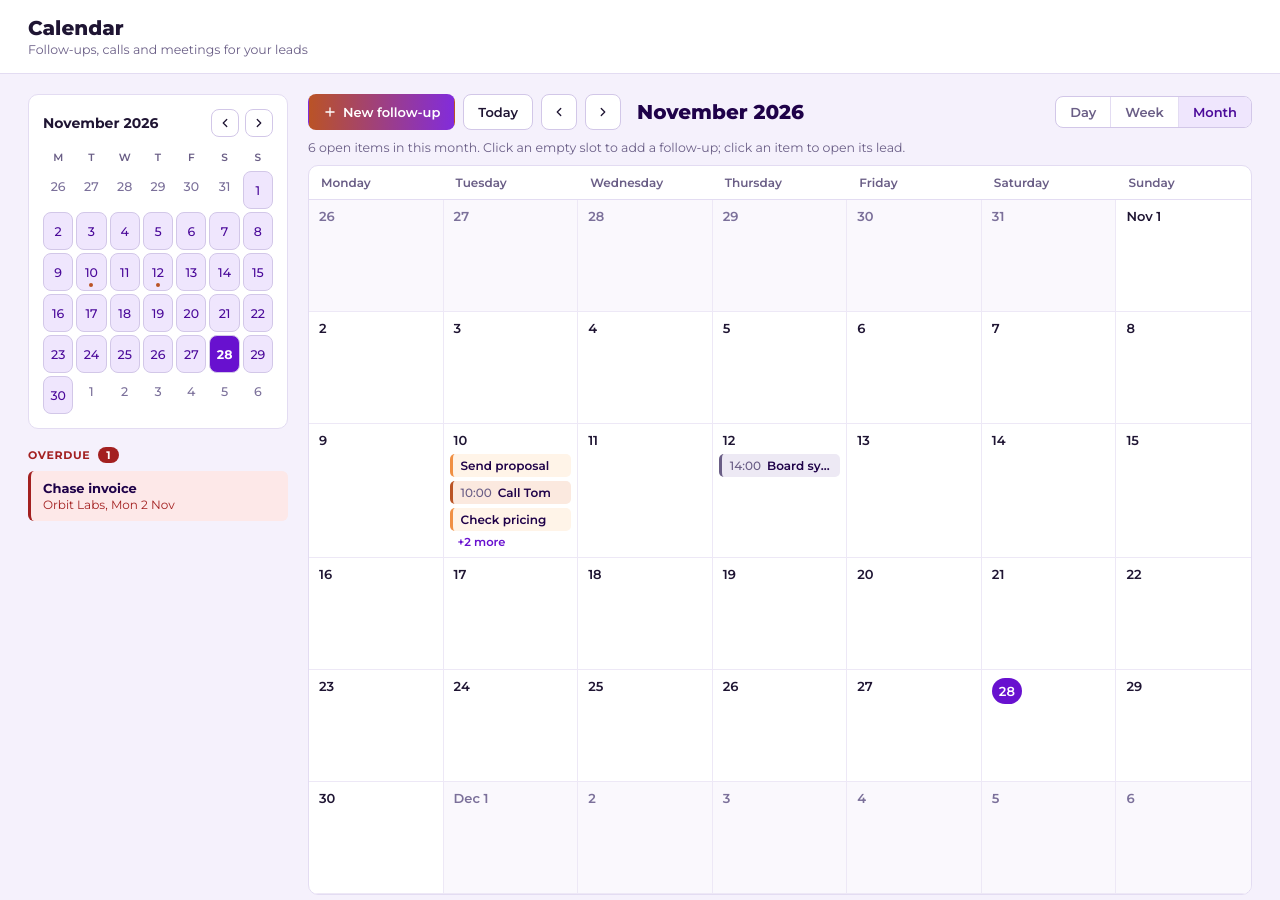
Test: Calendar page › an event without a lead opens its details
This screenshot has width=1280, height=900.
Click the button "14:00 Board sync": (780, 466) [719,454,840,477]
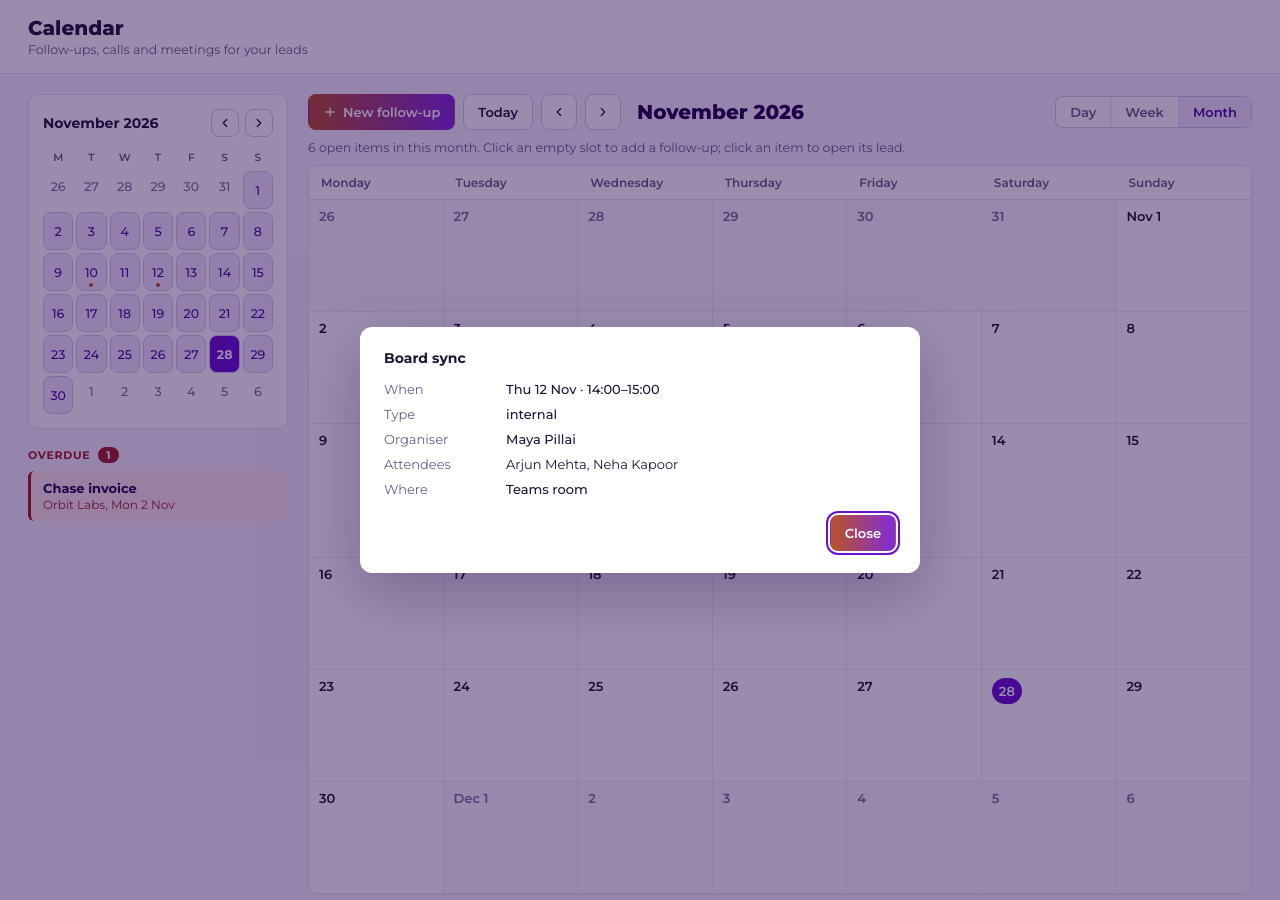
Now the text "Thu 12 Nov · 14:00–15:00" is shown, box [506,381,660,397]
Now the text "Maya Pillai" is shown, box [506,431,576,447]
Now the text "Arjun Mehta, Neha Kapoor" is shown, box [506,456,678,472]
Click the button "Close": (863, 533) [830,515,896,551]
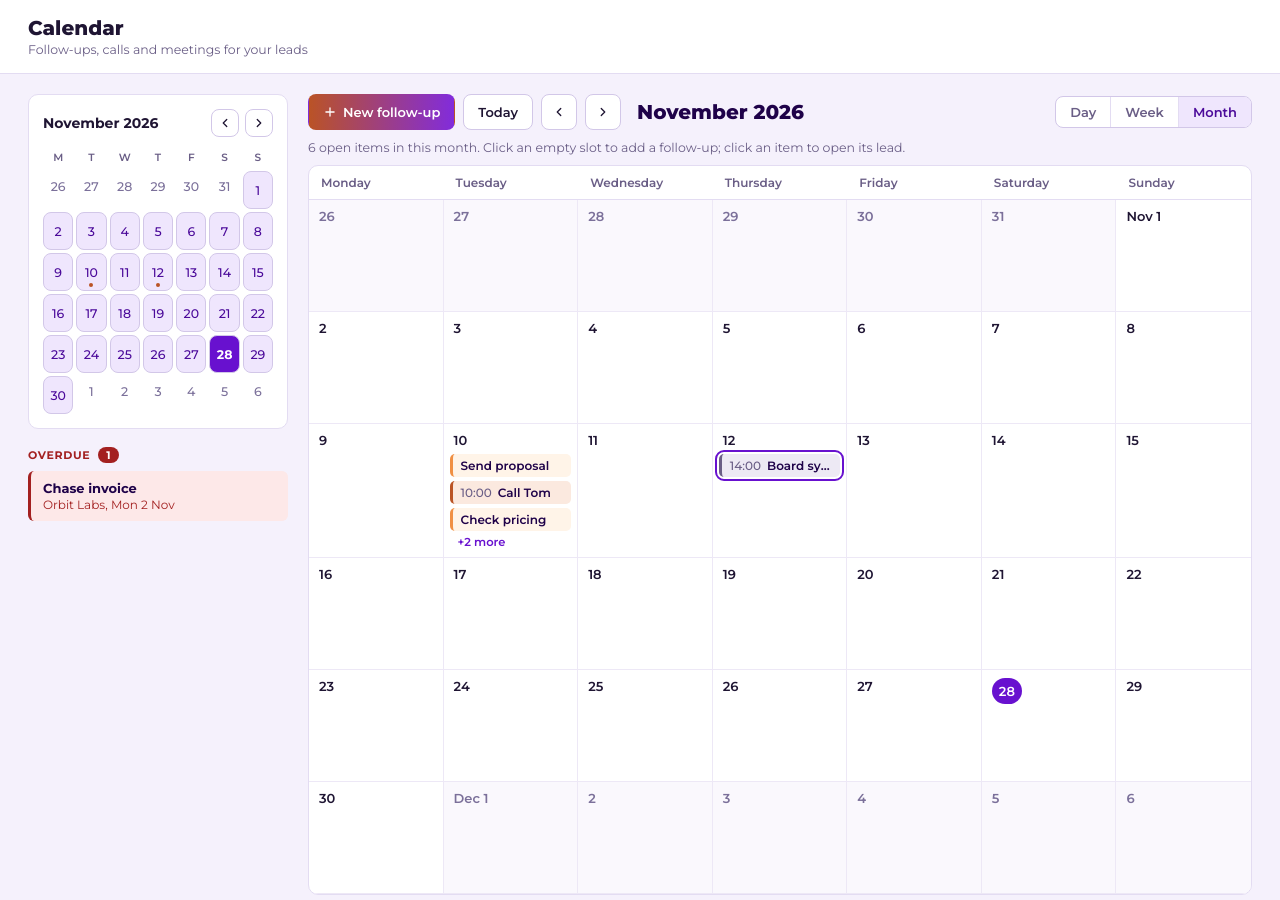
Now the dialog is gone
